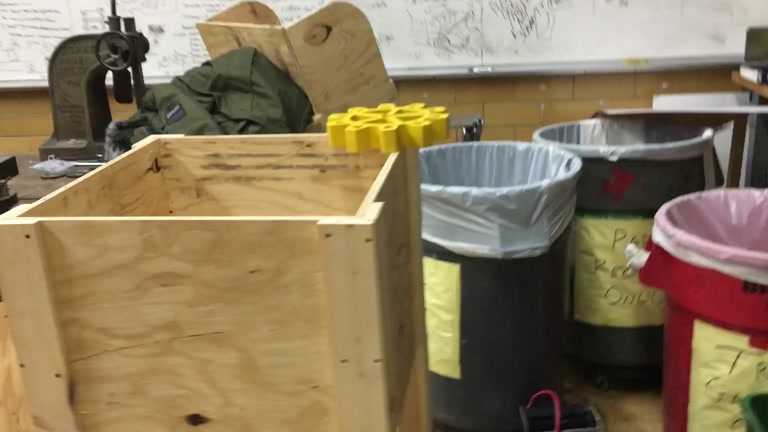gear: (326, 99, 451, 153)
